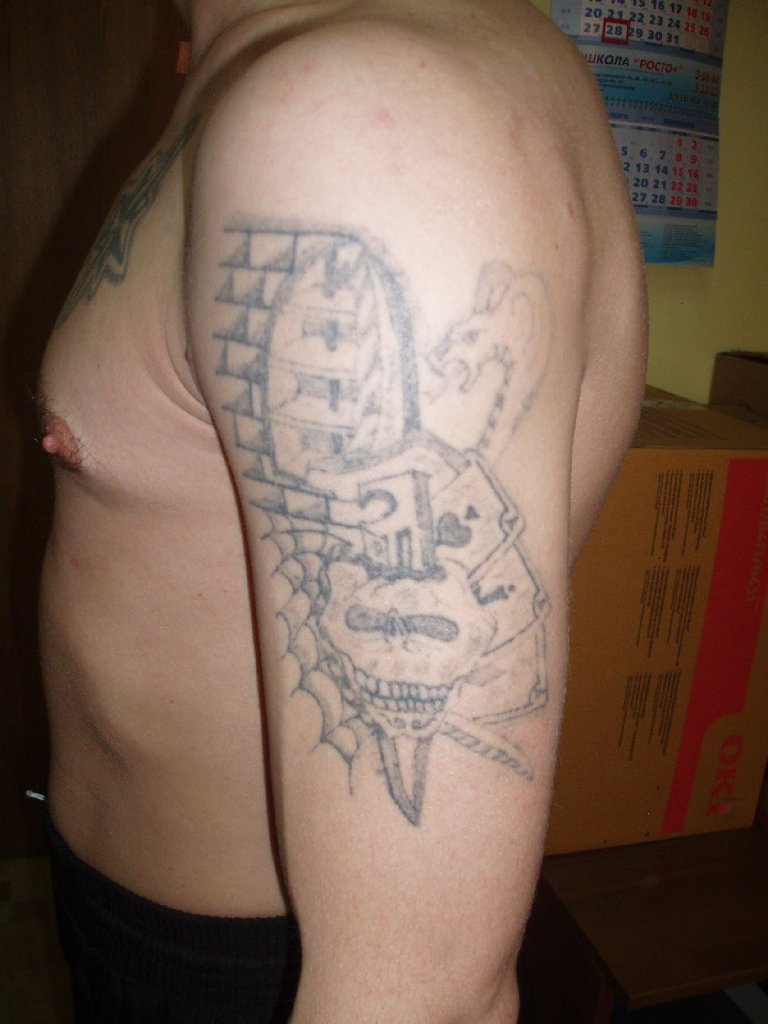tatu7_zmeya: (407, 229, 572, 781)
